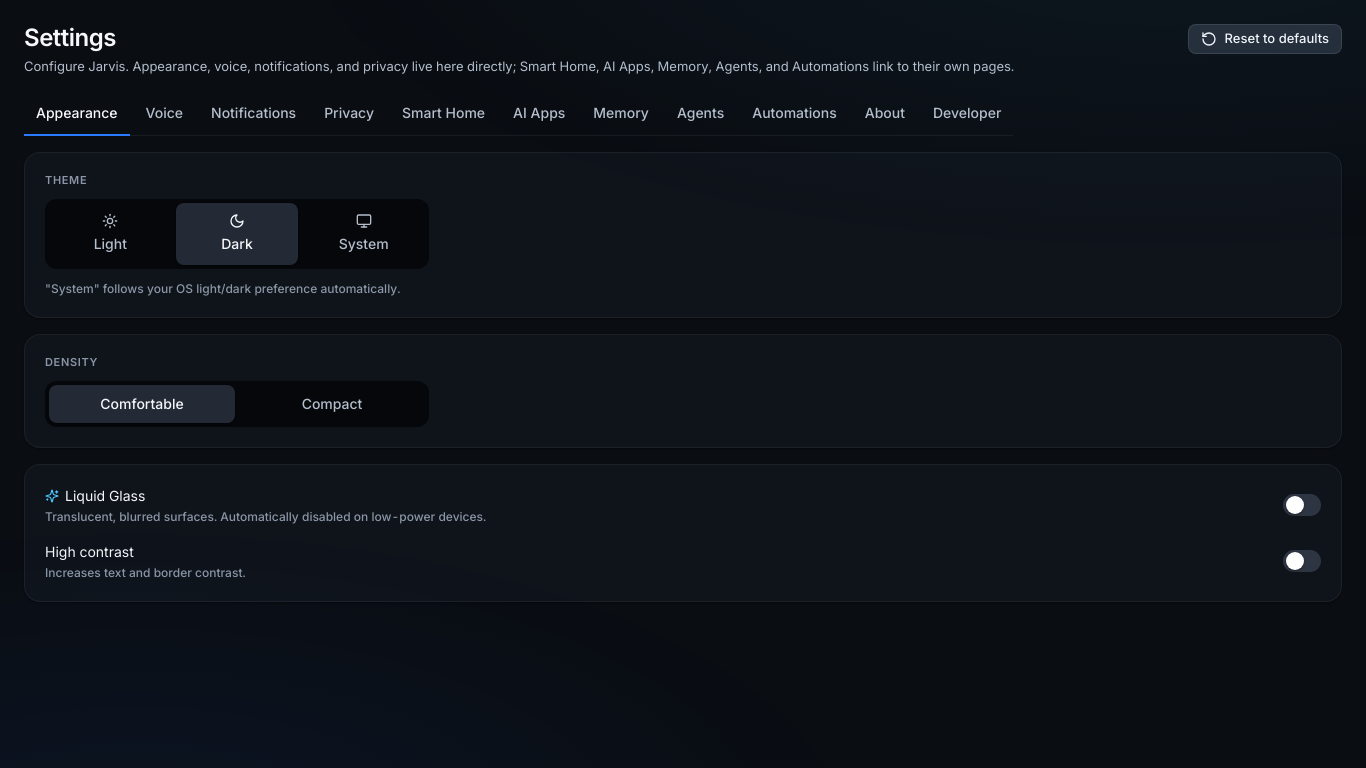
SettingsPage › Voice tab shows the real local voice backend status, not a fake control
Click the tab with test id "settings-tab-voice".
click(164, 114)  # box [134, 92, 195, 136]
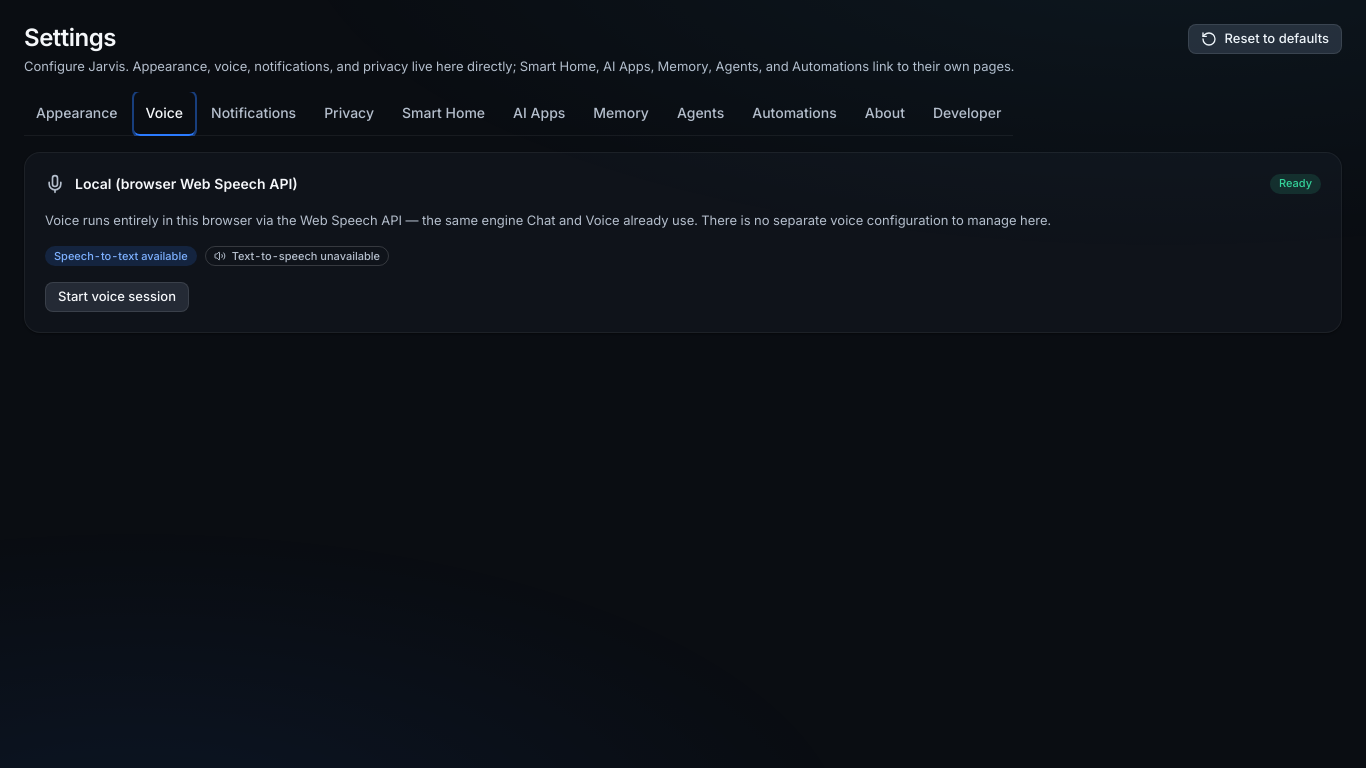
Check: the text "Local (browser Web Speech API)" is shown, box [75, 173, 298, 195]
